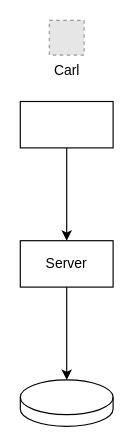
The diagram is 133 pixels wide and 447 high, and some of its shapes have lost their labels. Grey dashed boxes stand in for pictures. The shapes that lost their labels are listed below. From the top down, each one's box as (x1, y1, x2, y2) in pixels, then its label:
(19, 100, 113, 148): Device
(19, 379, 113, 426): Hell
